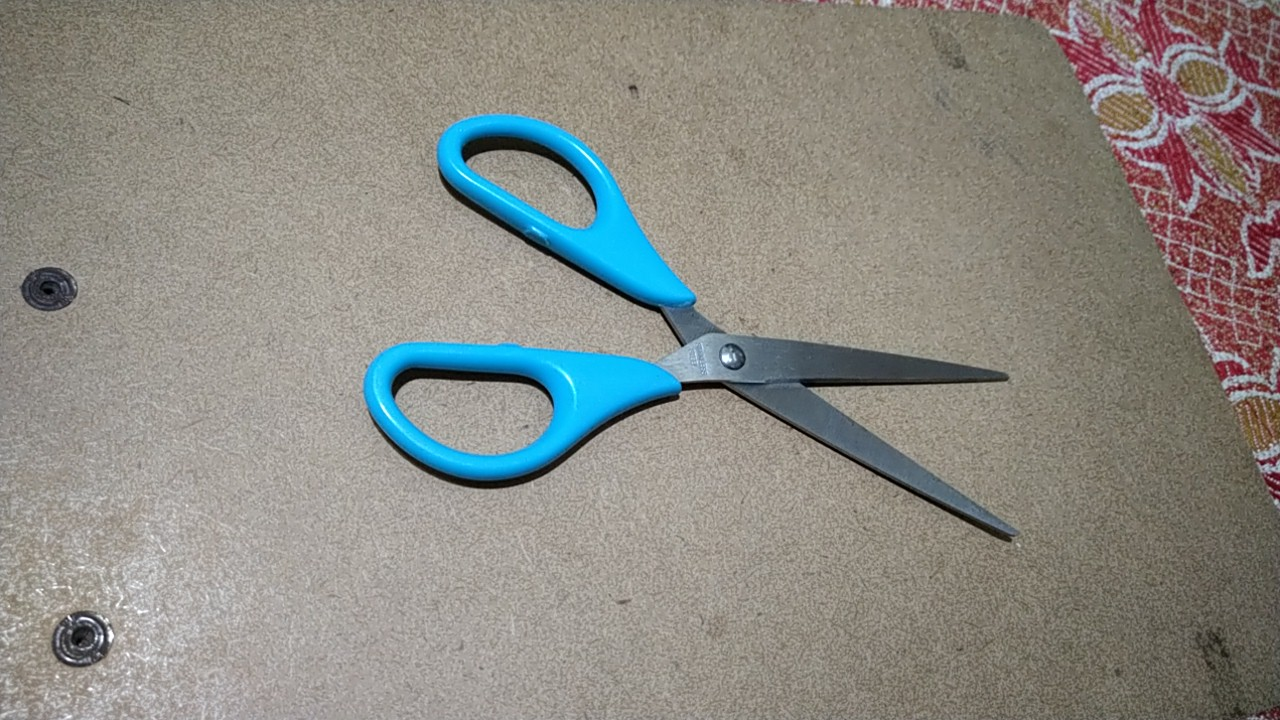scissor: (351, 97, 1047, 585)
